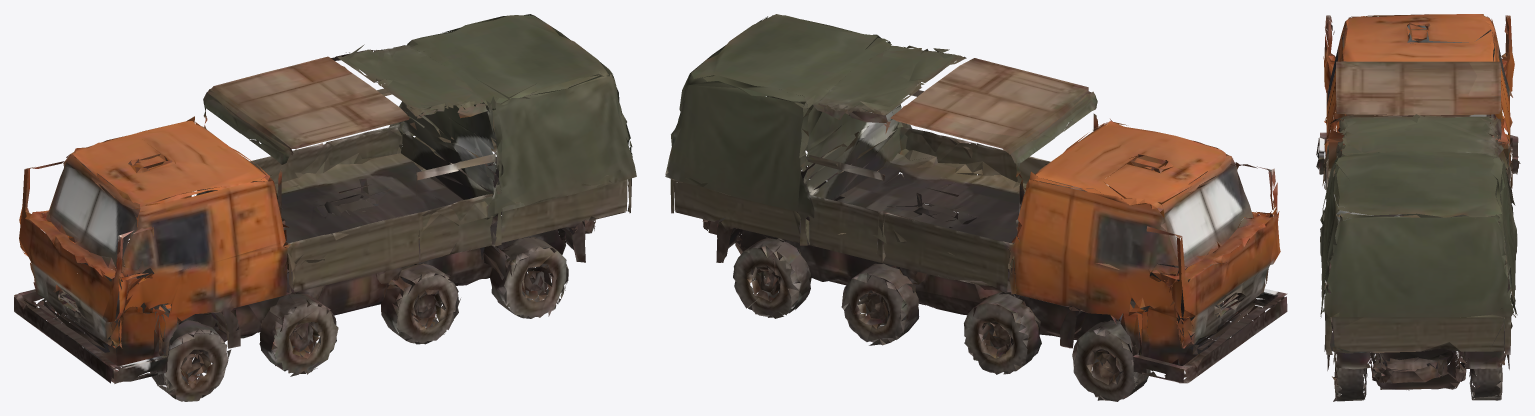
The model's file is container_kamaz_open.glb.
3 views of the same model, side by side, from view 1: azimuth 30°, elevation 25°; view 2: azimuth 150°, elevation 25°; view 3: azimuth 270°, elevation 25° (orthographic). The views are drawn at different scales.
Parts seen in each view (by area): view 1: container_kamaz_open; view 2: container_kamaz_open; view 3: container_kamaz_open.
Boxes of the visible parts, left/top/right/bottom form: container_kamaz_open: left=14, top=14, right=636, bottom=401; container_kamaz_open: left=665, top=14, right=1287, bottom=401; container_kamaz_open: left=1316, top=14, right=1520, bottom=401.
Bounding box in the file's own units: 7.47 × 3.25 × 2.6.
1 material, 1 textured.
